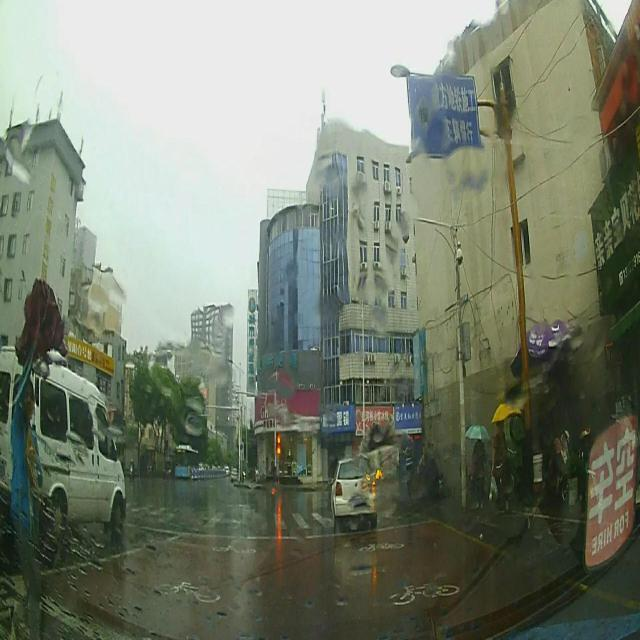car: (0, 348, 125, 538), (328, 456, 378, 528), (230, 468, 240, 482)
